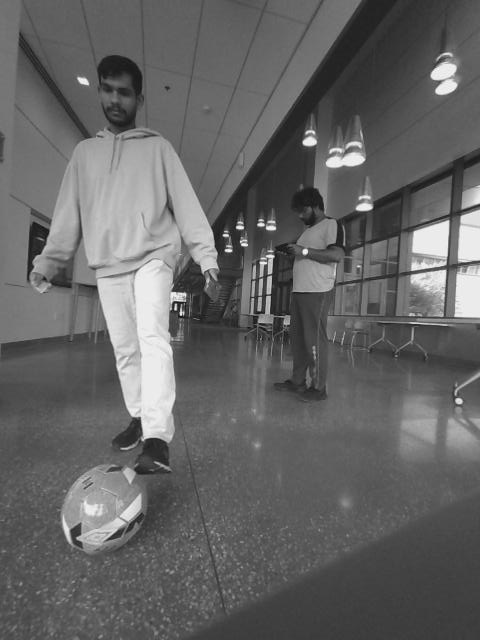ball: (53, 460, 152, 557)
